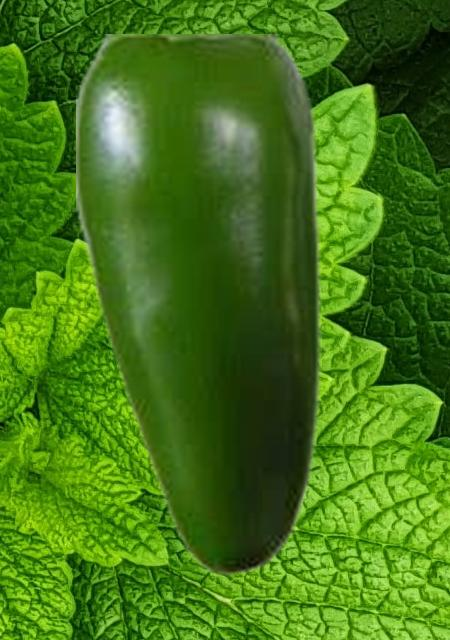green_chili: (76, 34, 320, 576)
